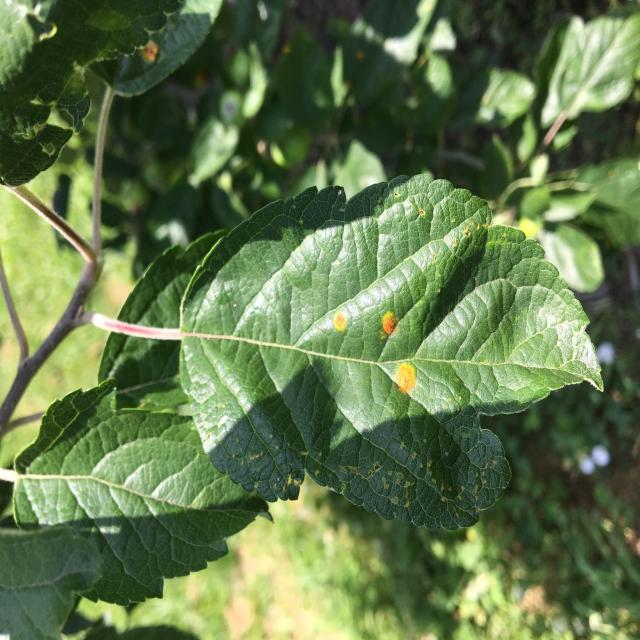Rust: (392, 361, 428, 407), (330, 294, 352, 346), (379, 304, 398, 352)
